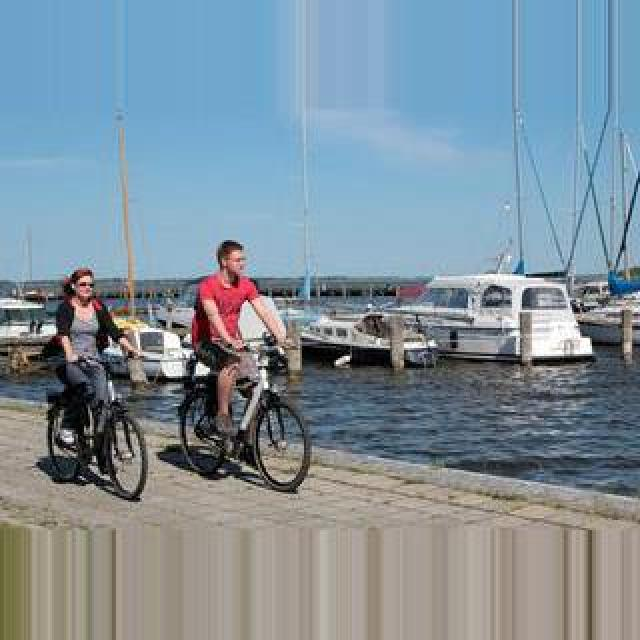MC-Bike: (192, 238, 292, 462), (48, 268, 138, 462)
Person: (176, 340, 312, 494), (44, 350, 148, 502)
